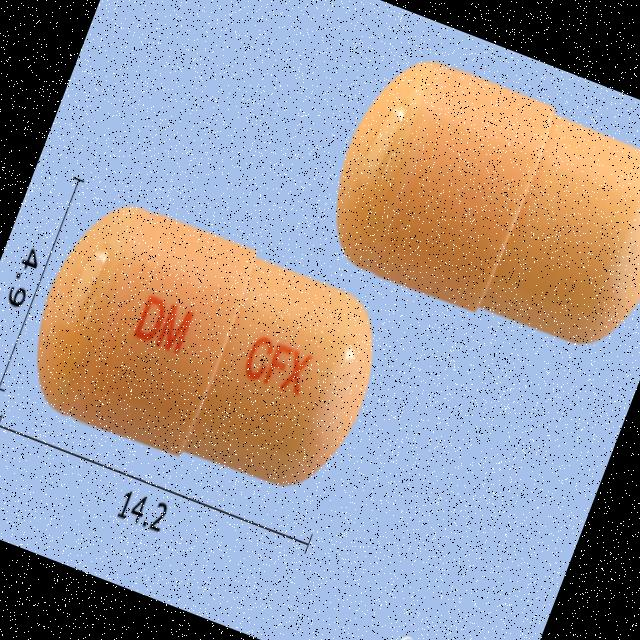Fixima: (10, 185, 401, 512), (310, 41, 640, 372)
